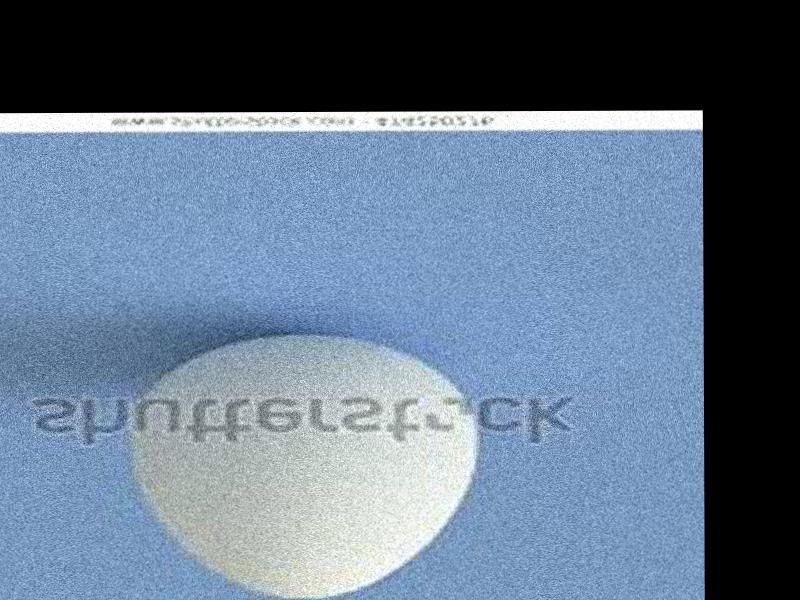Eggs: (129, 331, 480, 598)
